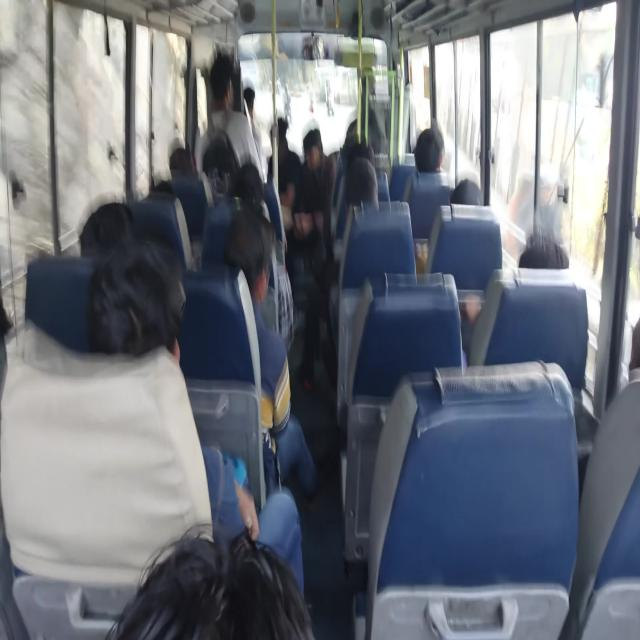person: (89, 246, 182, 379), (158, 587, 354, 640), (523, 214, 577, 298), (214, 223, 268, 305), (78, 206, 142, 268), (224, 171, 271, 220), (414, 131, 452, 190), (621, 302, 640, 404), (208, 64, 240, 118), (158, 140, 194, 184), (264, 116, 296, 165), (303, 126, 334, 170), (452, 172, 486, 211), (141, 175, 179, 208), (351, 170, 378, 207), (349, 140, 381, 164), (245, 81, 262, 120), (233, 156, 264, 176)
